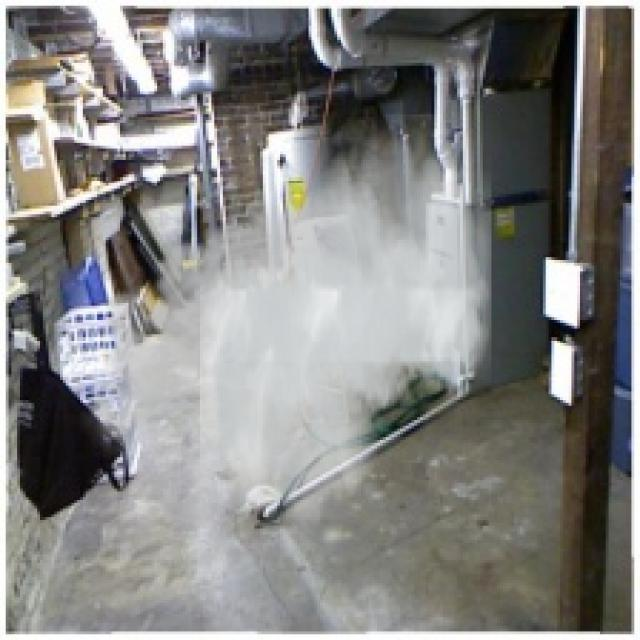Smoke: (77, 115, 492, 534)
